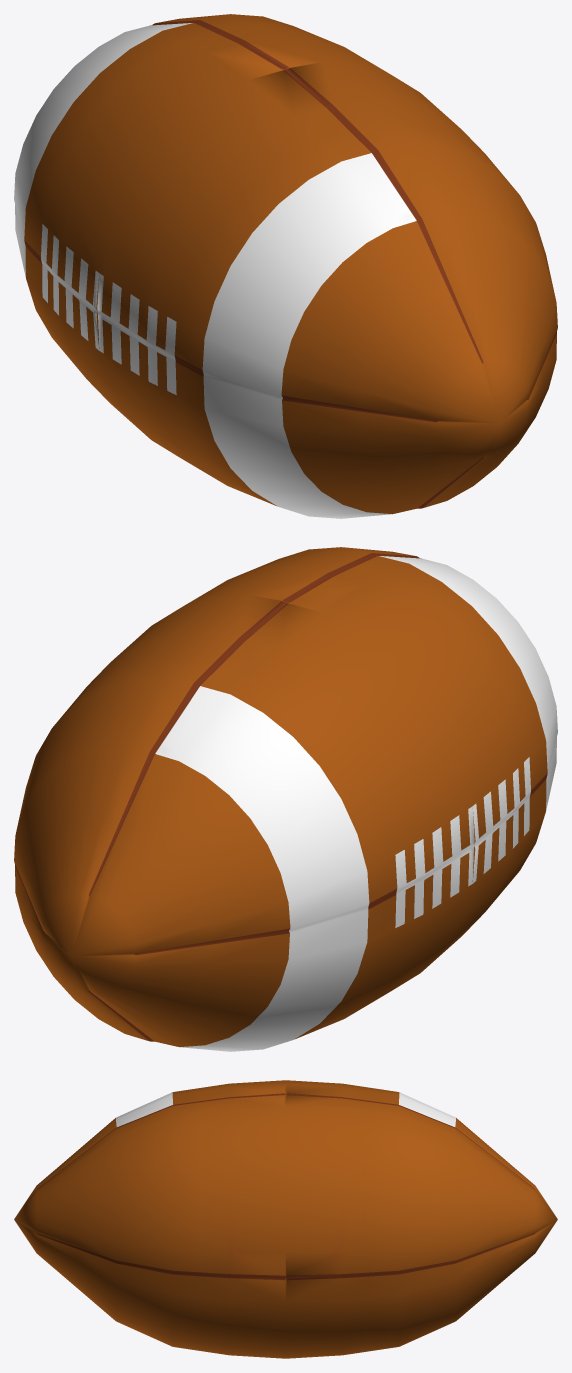
File: football 1.fbx
The picture shows the model from 3 angles, top to bottom: view 1: azimuth 30°, elevation 25°; view 2: azimuth 150°, elevation 25°; view 3: azimuth 270°, elevation 25°; orthographic projection. The views are drawn at different scales.
Visible parts, largest first — view 1: Cylinder; view 2: Cylinder; view 3: Cylinder.
Boxes of the visible parts, x1,y1,x2,y2 form: Cylinder: (14,14,557,518); Cylinder: (14,547,557,1051); Cylinder: (14,1080,557,1358).
Size of the model in its own units: 163 by 163 by 320.
